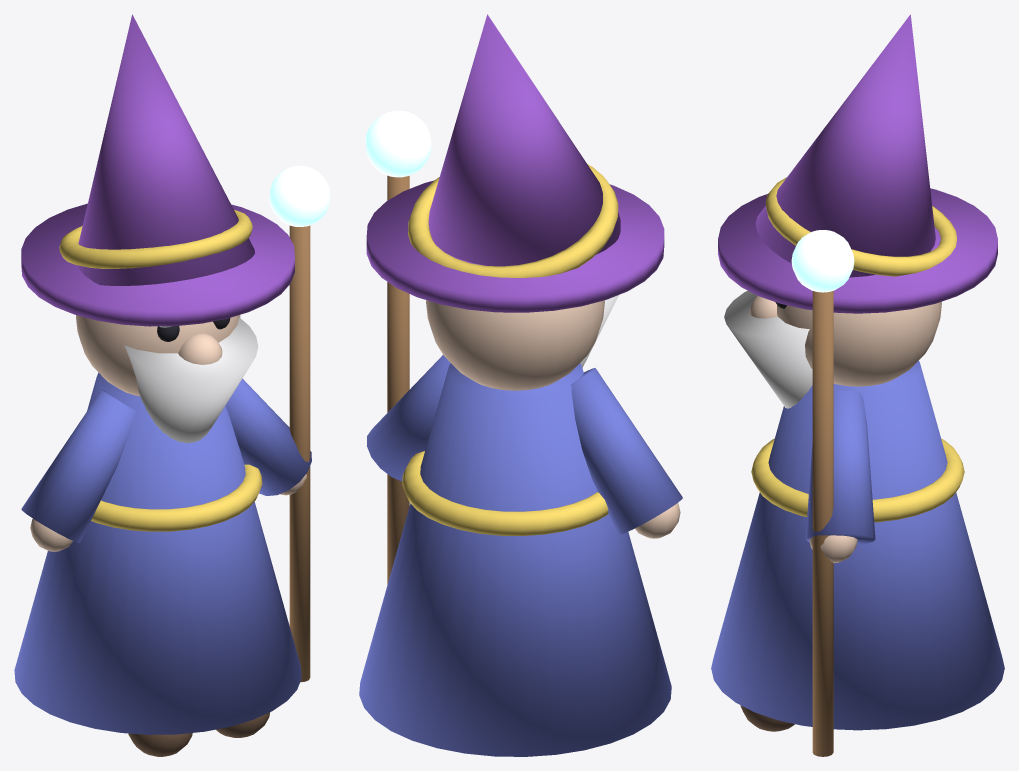
File: wizard.glb
3 views of the same model, side by side, from view 1: azimuth 30°, elevation 25°; view 2: azimuth 150°, elevation 25°; view 3: azimuth 270°, elevation 25° (orthographic). The views are drawn at different scales.
Parts seen in each view (by area): view 1: Robe, HatCone, HatBrim, Staff, Sleeve_L, Beard, Sleeve_R, Head, Belt, HatBand, Orb, Foot_L (+3 smaller); view 2: Robe, HatCone, HatBrim, Head, Sleeve_L, Belt, HatBand, Sleeve_R, Staff, Orb, Hand_L; view 3: Robe, HatCone, HatBrim, Staff, Head, Sleeve_R, Beard, Belt, HatBand, Orb, Hand_R, Foot_R (+1 smaller).
Part boxes in pixels (<box>): Robe: <box>14,372,301,734</box>; HatCone: <box>77,14,254,285</box>; HatBrim: <box>21,203,294,326</box>; Staff: <box>289,225,310,682</box>; Sleeve_L: <box>21,389,135,542</box>; Beard: <box>124,317,258,443</box>; Sleeve_R: <box>225,378,311,495</box>; Head: <box>76,315,240,396</box>; Belt: <box>91,464,262,531</box>; HatBand: <box>59,210,252,268</box>; Orb: <box>269,165,330,226</box>; Foot_L: <box>128,733,192,756</box>; Robe: <box>359,363,671,756</box>; HatCone: <box>428,14,620,266</box>; HatBrim: <box>366,180,664,312</box>; Head: <box>426,300,604,390</box>; Sleeve_L: <box>570,368,682,534</box>; Belt: <box>402,451,608,535</box>; HatBand: <box>408,164,618,277</box>; Sleeve_R: <box>367,355,450,481</box>; Staff: <box>387,175,409,584</box>; Orb: <box>365,110,431,177</box>; Hand_L: <box>635,503,680,538</box>; Robe: <box>711,360,1004,730</box>; HatCone: <box>755,14,935,277</box>; HatBrim: <box>718,188,997,313</box>; Staff: <box>812,291,833,756</box>; Head: <box>777,302,941,386</box>; Sleeve_R: <box>805,390,875,544</box>; Beard: <box>724,290,812,408</box>; Belt: <box>751,438,964,522</box>; HatBand: <box>765,177,956,276</box>; Orb: <box>791,230,854,292</box>; Hand_R: <box>809,535,857,563</box>; Foot_R: <box>740,705,794,731</box>.
Bounding box in the file's own units: 0.9824 × 2.19 × 0.84.
